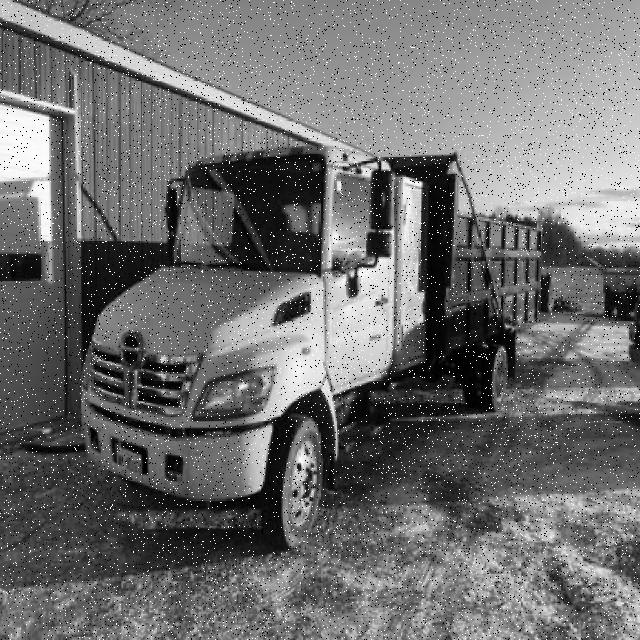Box Truck: (79, 142, 542, 553)
